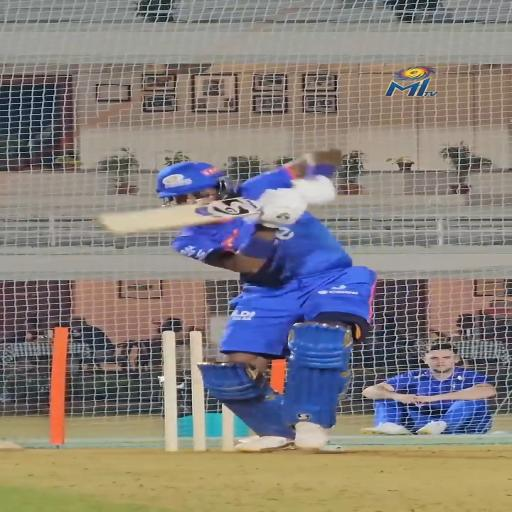Cricket bat: (97, 198, 260, 236)
